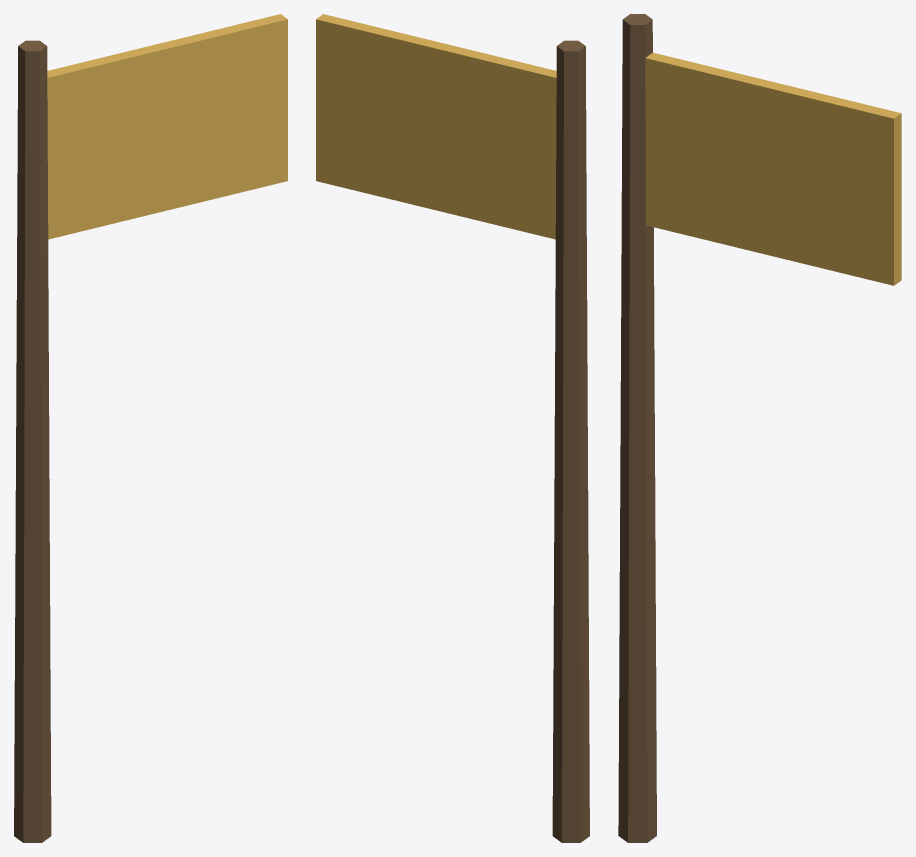
File: flag-finish.glb
3 renders of one model, left to right at view 1: azimuth 30°, elevation 25°; view 2: azimuth 150°, elevation 25°; view 3: azimuth 330°, elevation 25°, orthographic. The views are drawn at different scales.
Visible parts, largest first — view 1: Flag_Cloth, flag-finish; view 2: Flag_Cloth, flag-finish; view 3: Flag_Cloth, flag-finish.
Part boxes in pixels (x1,y1,x2,y2): Flag_Cloth: (47, 14, 287, 239); flag-finish: (14, 40, 51, 842); Flag_Cloth: (316, 14, 556, 239); flag-finish: (552, 40, 589, 842); Flag_Cloth: (645, 52, 901, 285); flag-finish: (618, 14, 656, 842).
Size of the model in its own units: 0.739 by 2.1 by 0.09.
